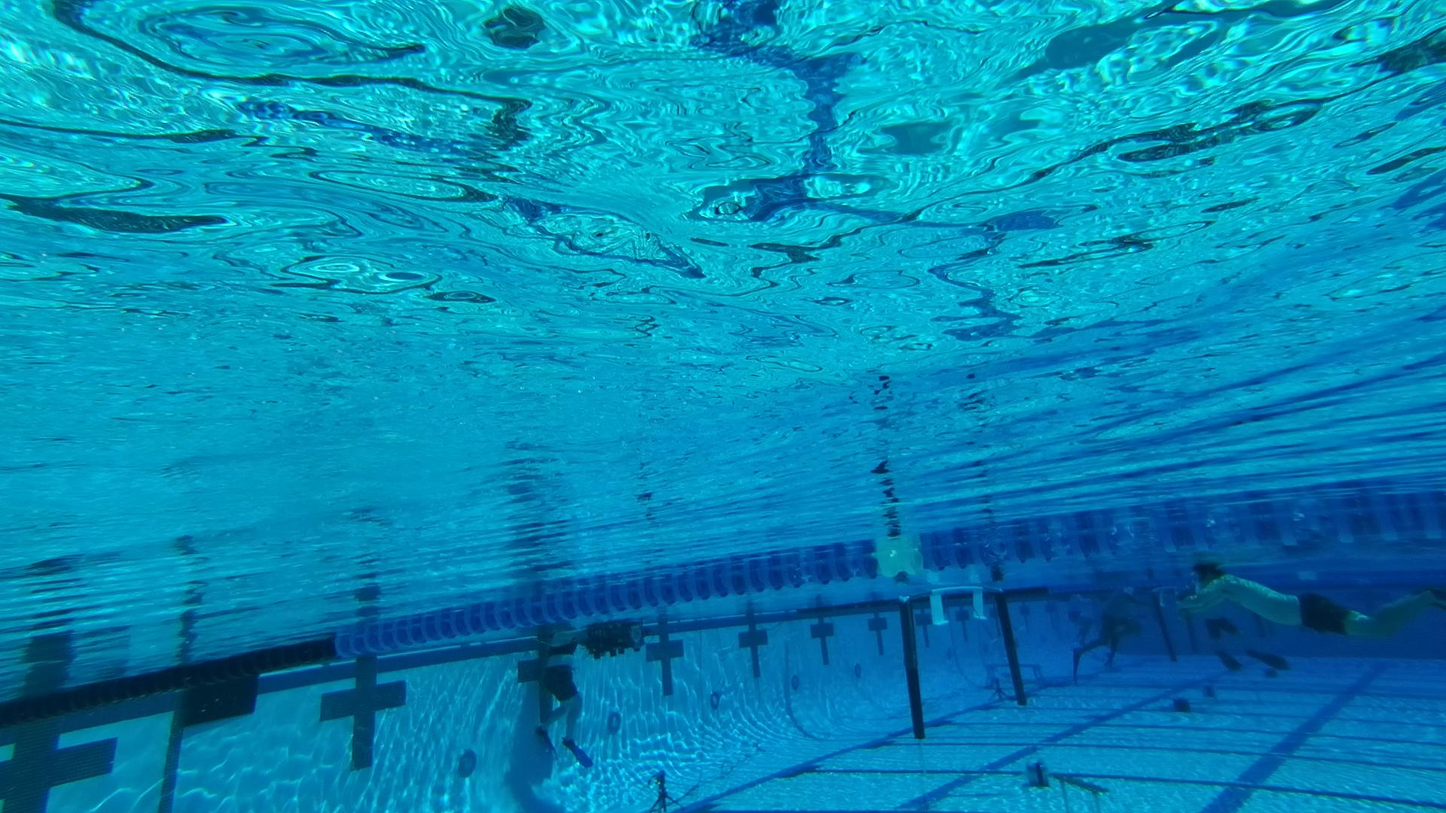path: (1046, 766, 1140, 813), (986, 659, 1048, 701), (1205, 675, 1284, 706)
